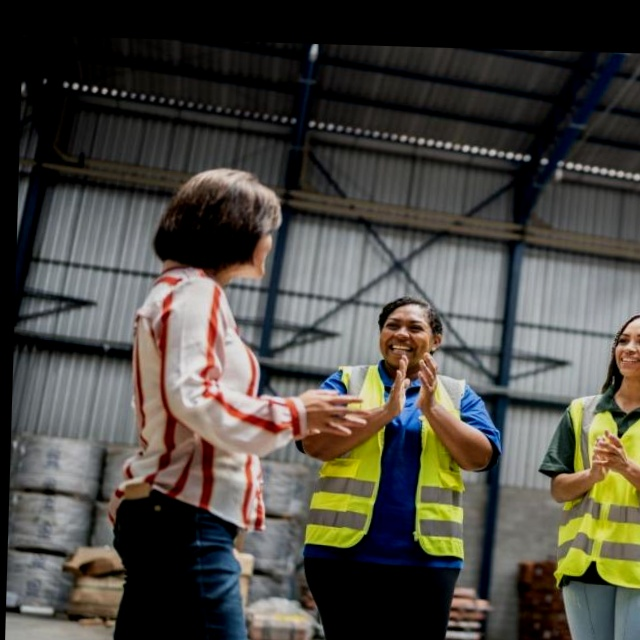Con_Chaleco: (315, 362, 479, 564), (556, 392, 640, 596)
Sin_Casco_Mascarrilla: (156, 162, 283, 280), (377, 294, 448, 368), (608, 312, 640, 397)
Sin_Chaleco: (115, 278, 279, 521)
